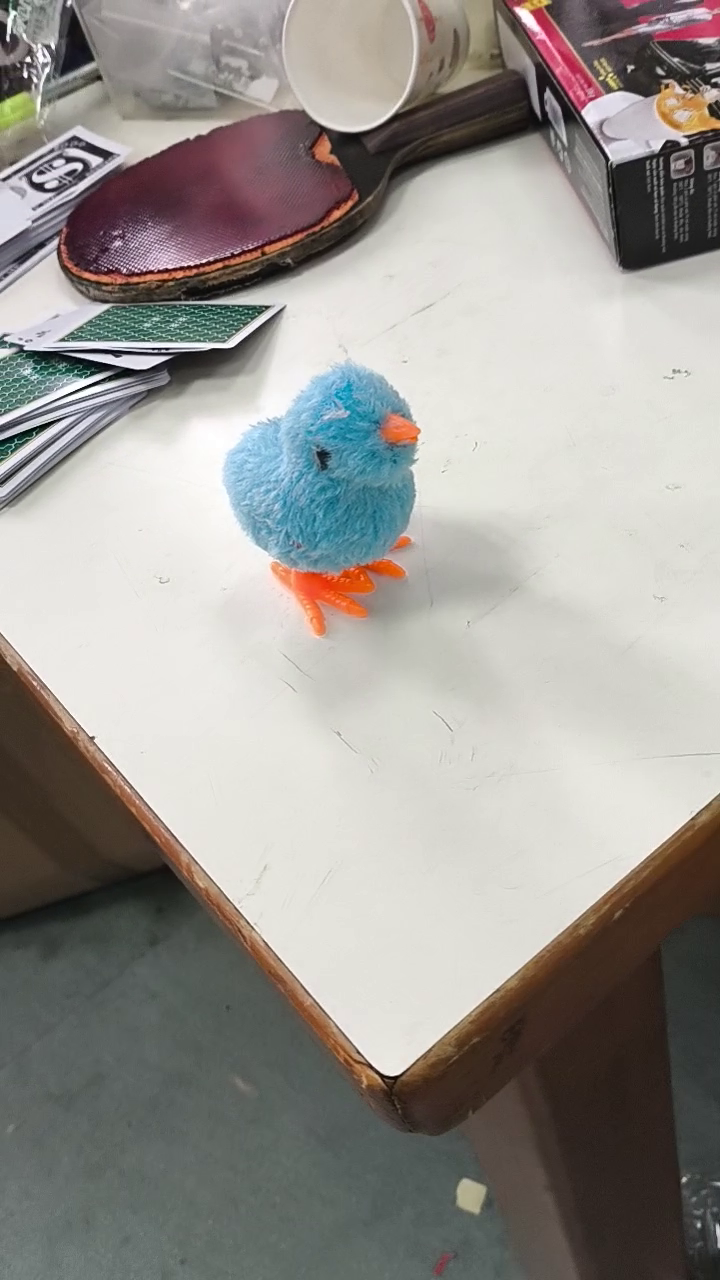blue chicken: (219, 362, 430, 643)
